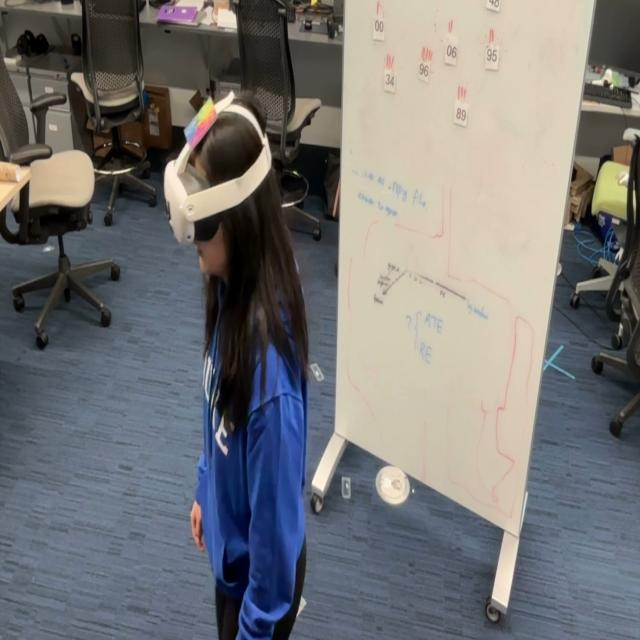Headset: (163, 91, 272, 245)
Marker: (181, 92, 224, 154)
